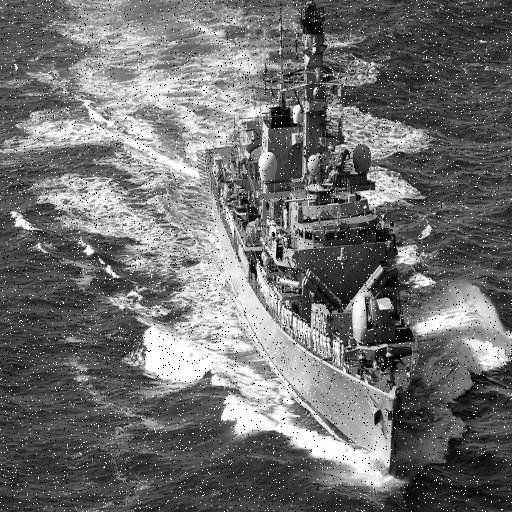Fragata: (17, 1, 250, 485)
